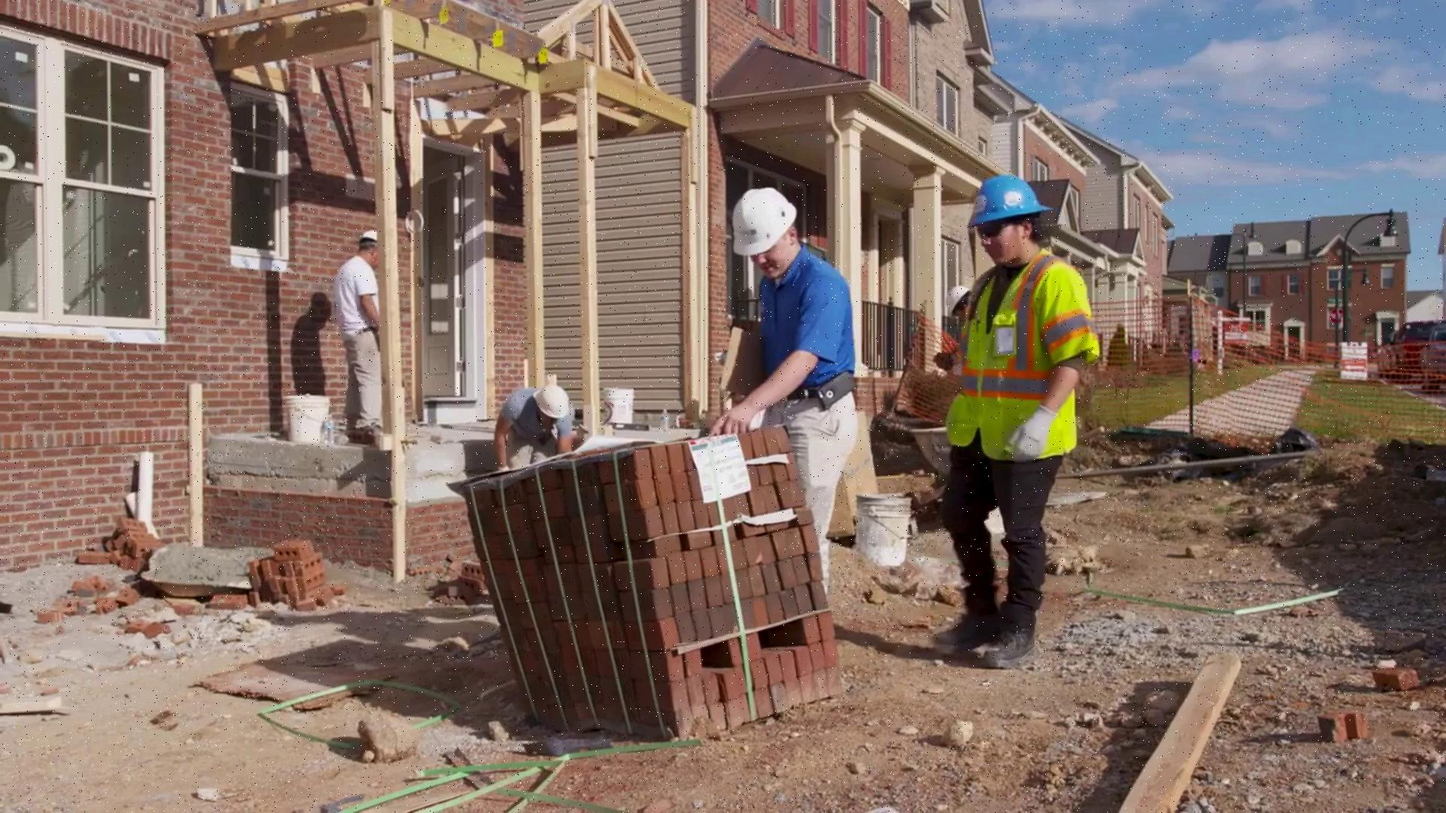Hard_hat: (718, 188, 796, 259), (961, 176, 1046, 226)
Vest: (943, 261, 1091, 459)
